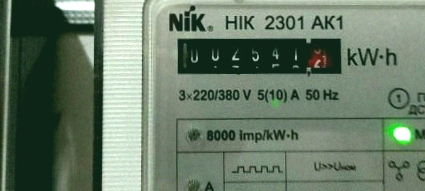0: (187, 43, 200, 64), (208, 41, 220, 62)
1: (289, 40, 300, 63)
2: (228, 40, 242, 62)
4: (269, 39, 280, 61)
5: (248, 40, 261, 63)
6: (311, 56, 322, 68)
screen: (164, 27, 353, 82)
